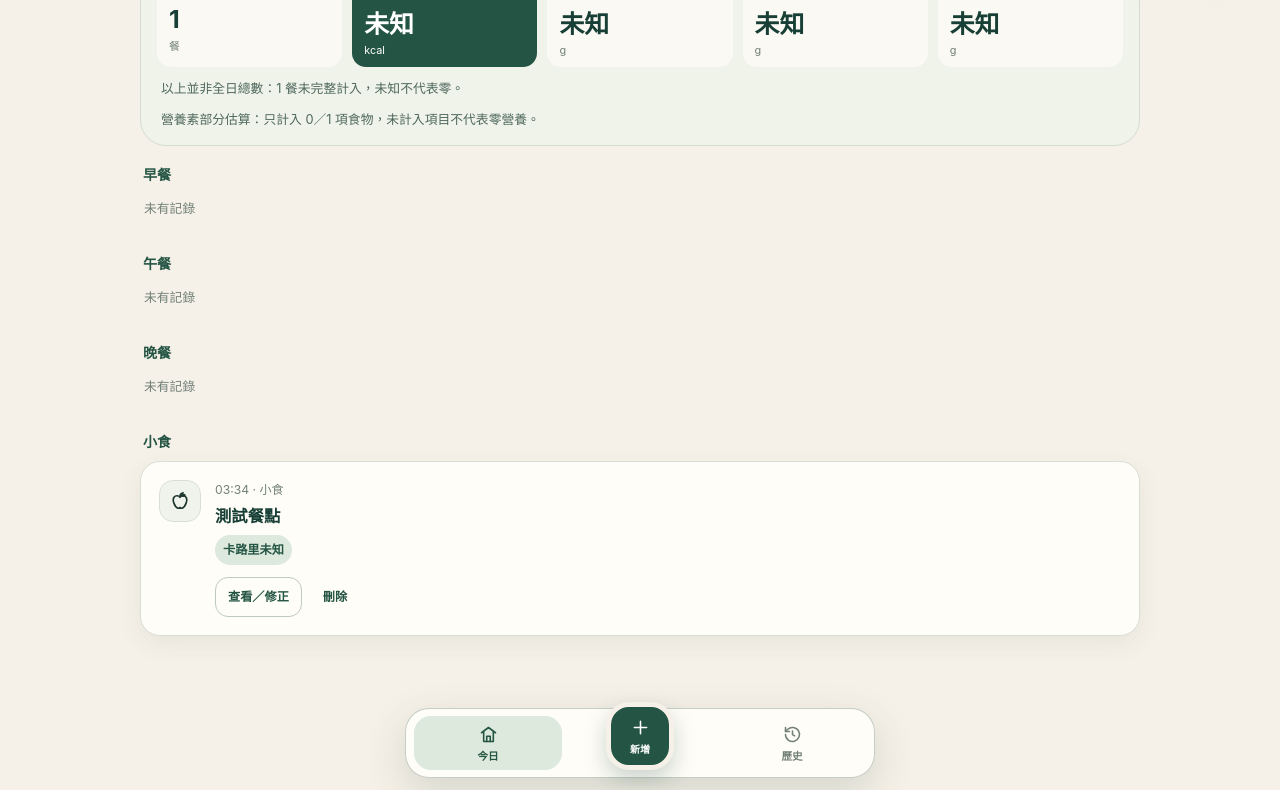
Scenario: keeps the local notice when durable jobs remain, including error conflict
(page scrolled)
Click the button "刪除" at (335, 598), box [310,578,360,618]
(page scrolled)
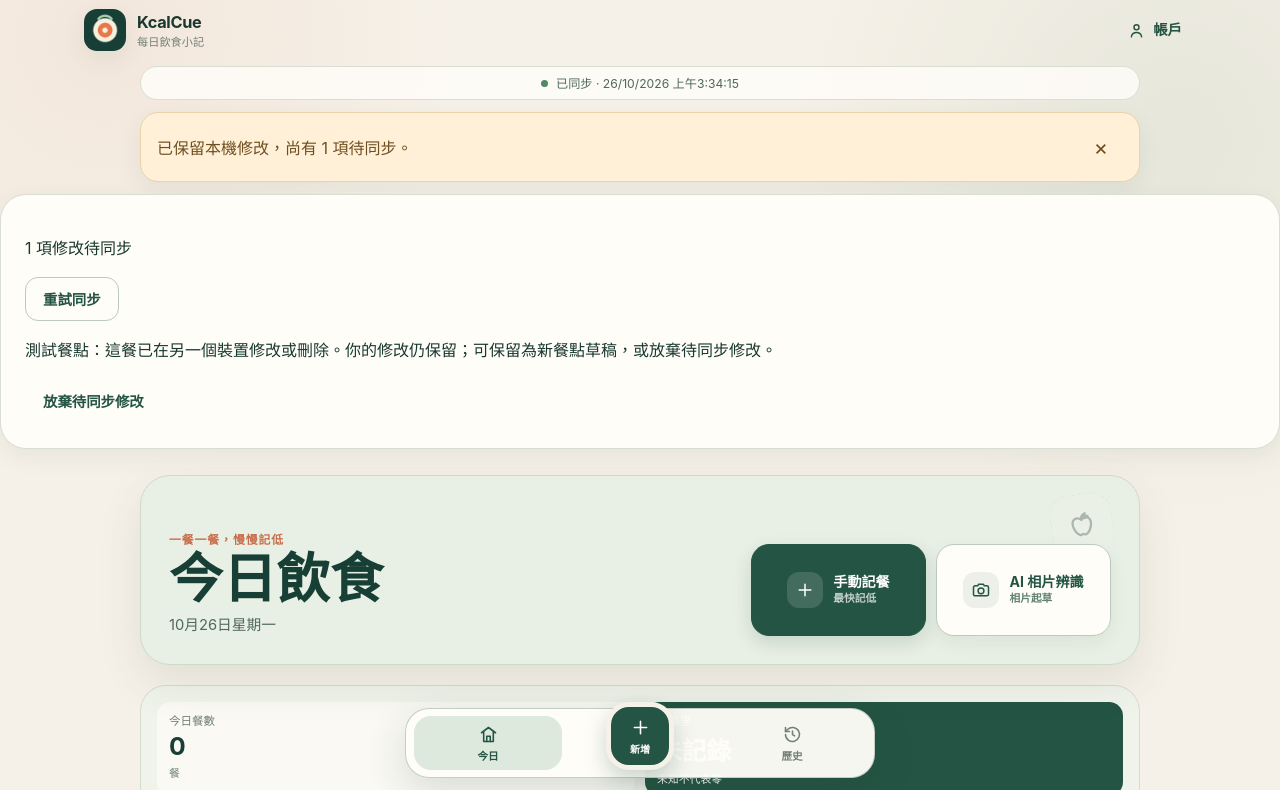
Check: the text "已保留本機修改，尚有 1 項待同步。" is shown, box [157,135,412,159]
Check: the text "1 項修改待同步" is shown, box [25,238,132,258]
